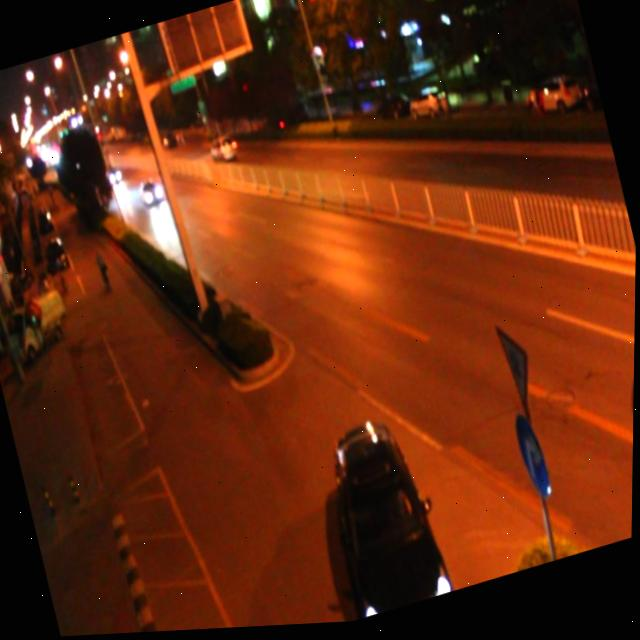car: (315, 409, 456, 624), (208, 135, 239, 168), (137, 176, 166, 209), (104, 163, 123, 186)
